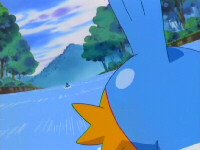mudkip: (68, 1, 200, 146)
